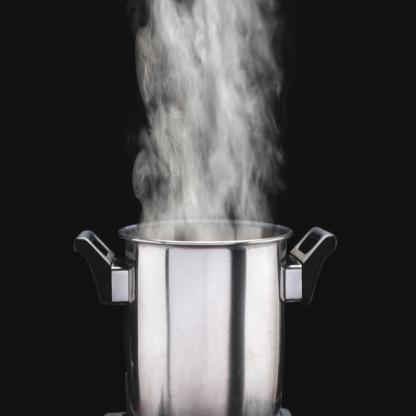smoke: (134, 0, 282, 237)
